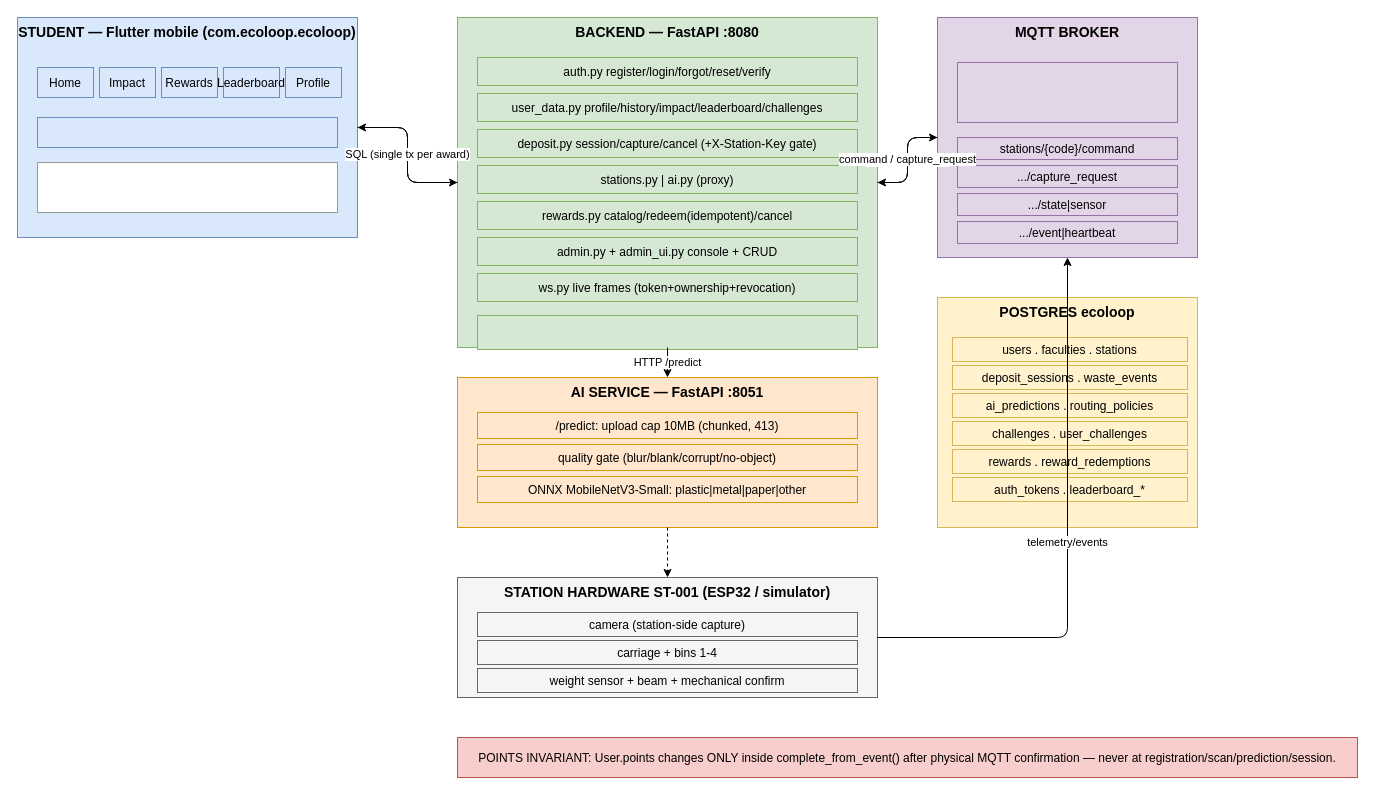
Image size: 1375x795. Some labels were removed from this diagram. The centre of each missing label's shape, as x and y in pixels:
"PROD: HiveMQ Cloud TLS :8883 DEV: mosquitto :1884" goes at (x=1067, y=92).
"REST: Authorization Bearer JWT WS: /ws/deposits/{op}?token=" goes at (x=187, y=187).
"SCAN FAB -> station-camera deposit flow" goes at (x=187, y=132).
"services: deposit | reward | challenge | points_tx | leaderboard" goes at (x=667, y=332).
